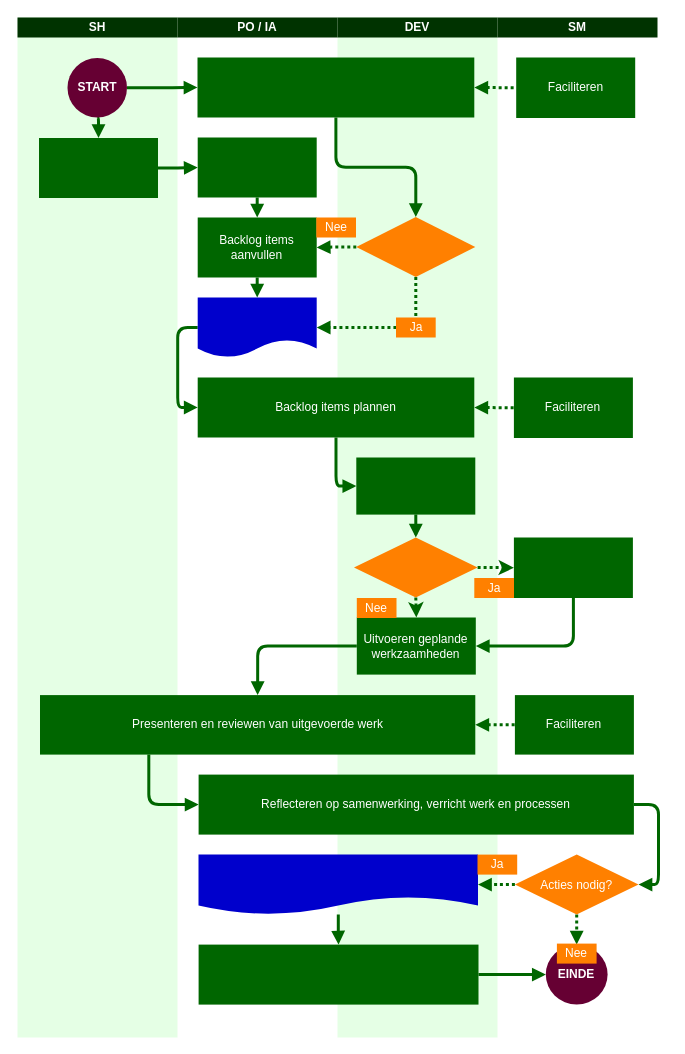
This 685x1054 diagram has some shape labels left out. The centre of each missing label's shape, as x and y in pixels:
"Actiepunt" goes at pixel 338 884.
"Actiepunt opvolgen" goes at pixel 338 974.
"Backlog Item" goes at pixel 256 327.
"Backlog item duidelijk?" goes at pixel 415 246.
"Backlog items aanmaken" goes at pixel 256 167.
"Backlog items verduidelijken" goes at pixel 335 87.
"Dagelijks werk plannen" goes at pixel 415 485.
"Obstakels elimineren" goes at pixel 572 567.
"Obstakels?" goes at pixel 415 567.
"Wensen definiëren" goes at pixel 98 168.
